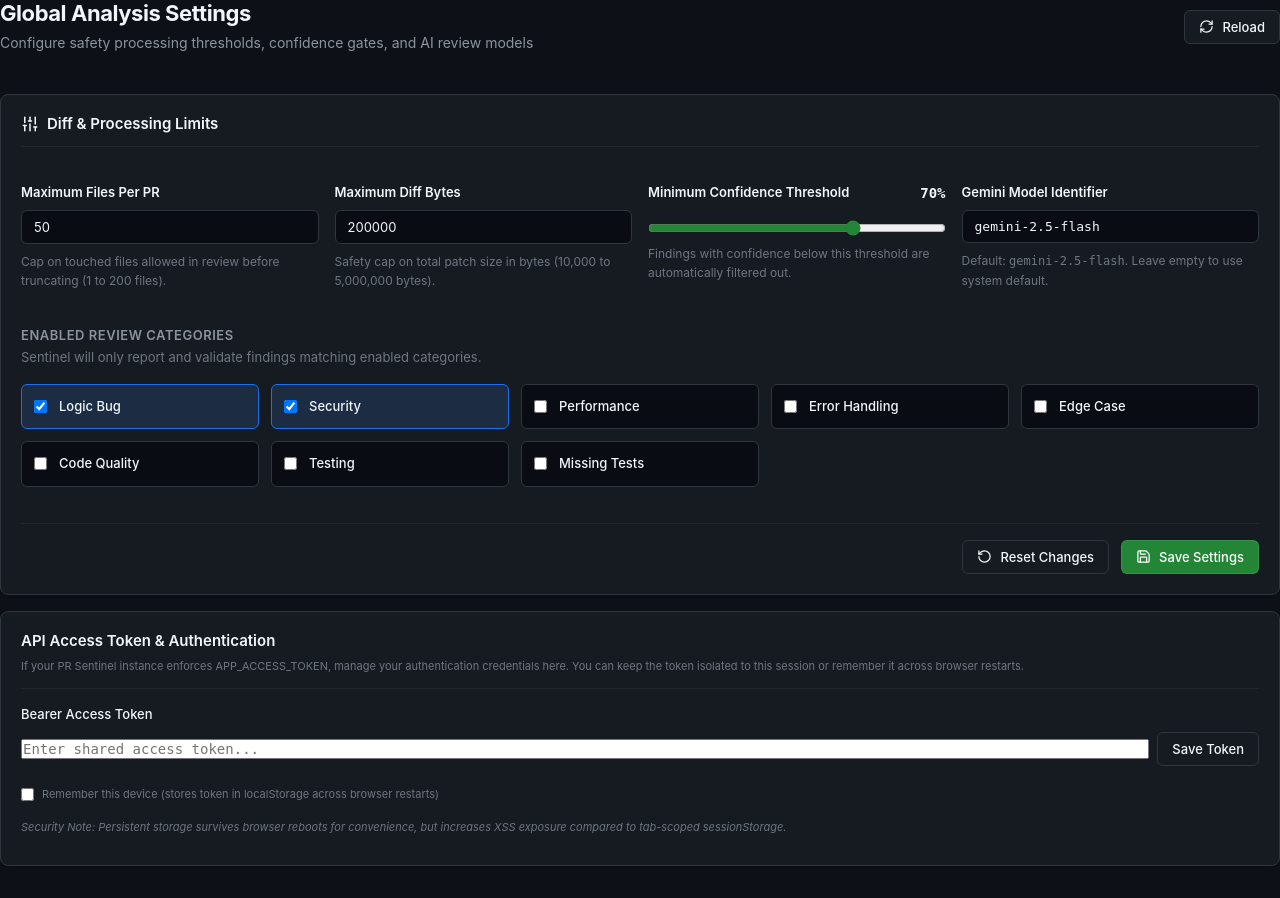
Test: Settings Page › updates settings and shows success feedback banner
This screenshot has width=1280, height=898.
Replace the text in the number field labelled "Maximum Files Per PR" with "75" at (170, 227), box x1=21 y1=210 x2=318 y2=244
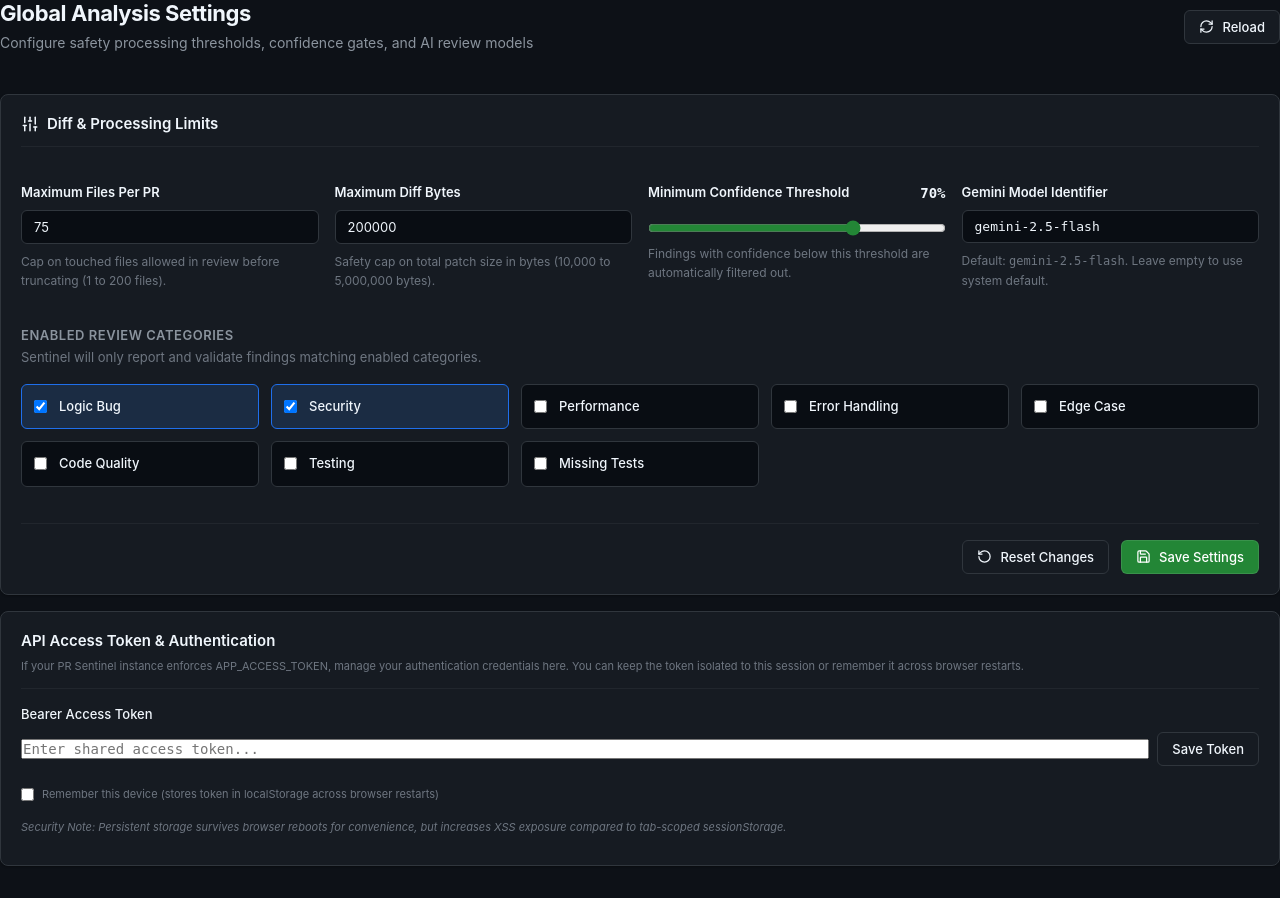
Click the button "Save Settings".
click(1190, 557)  # box x1=1121 y1=540 x2=1259 y2=574
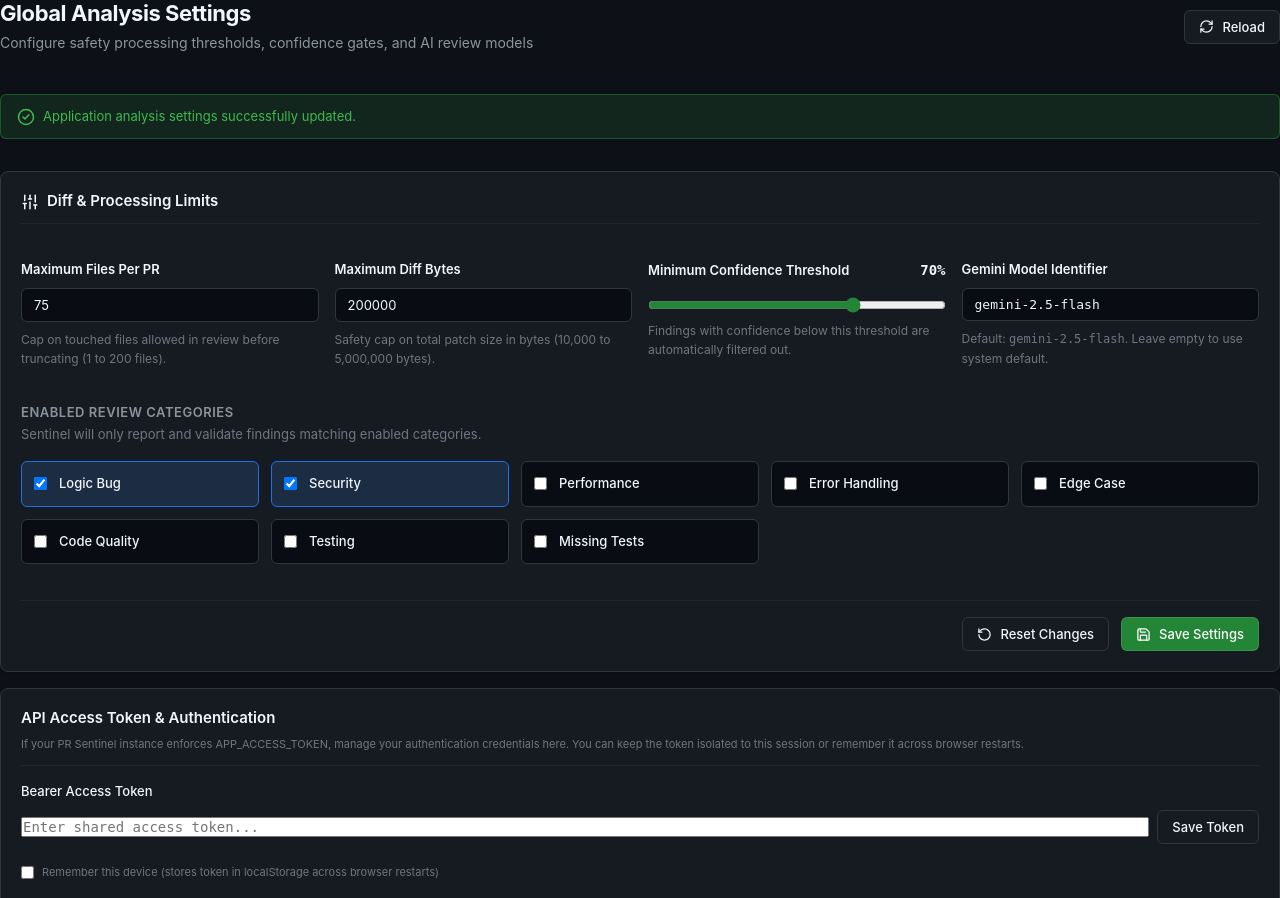
Result: the text "Application analysis settings successfully updated." is shown at x1=43 y1=107 x2=356 y2=126
